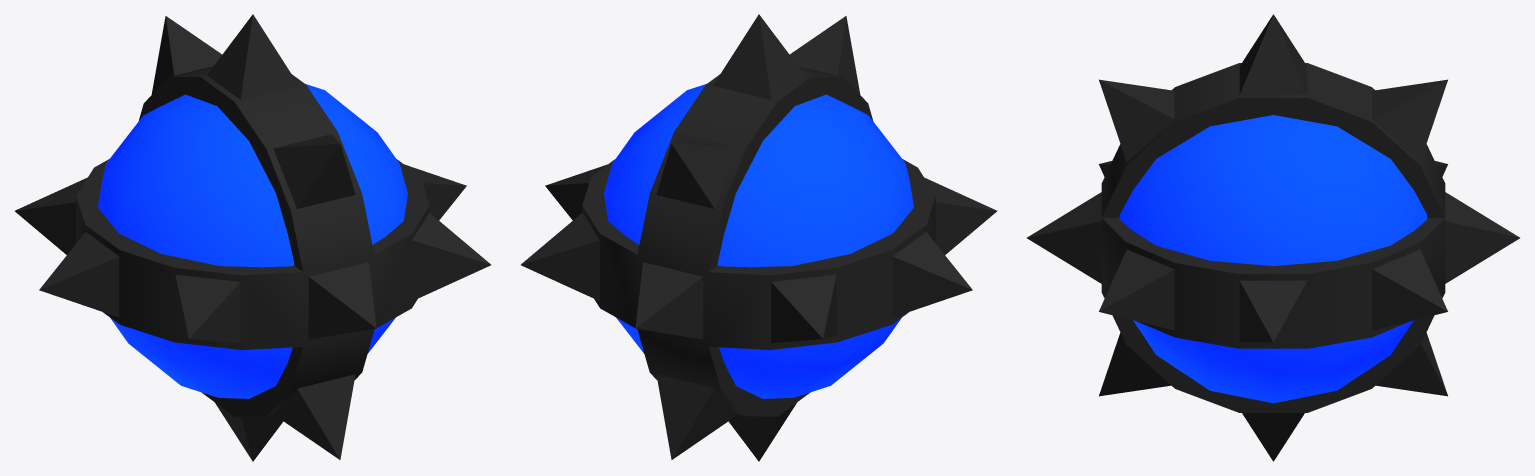
File: bullet.glb
3 renders of one model, left to right at view 1: azimuth 30°, elevation 25°; view 2: azimuth 150°, elevation 25°; view 3: azimuth 270°, elevation 25°, orthographic.
Visible parts, largest first — view 1: Cone, Sphere; view 2: Cone, Sphere; view 3: Cone, Sphere.
Boxes of the visible parts, box(x1,y1,x2,y2) form: Cone: box(15, 14, 490, 461); Sphere: box(98, 84, 407, 398); Cone: box(521, 14, 996, 461); Sphere: box(604, 84, 913, 398); Cone: box(1027, 14, 1519, 461); Sphere: box(1119, 115, 1427, 403).
Bounding box in the file's own units: 9.65 × 9.65 × 9.65.
